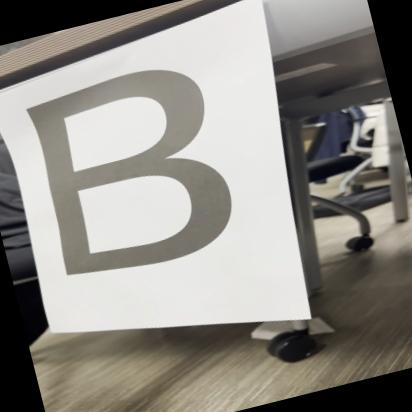seat: (11, 42, 298, 304)
